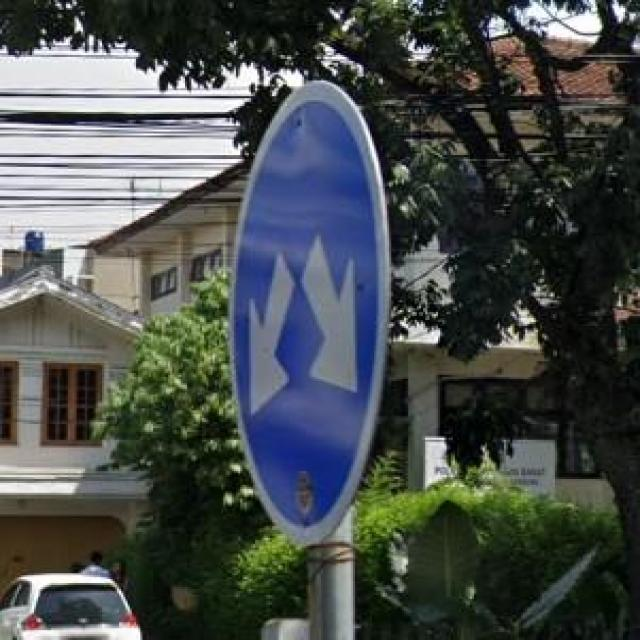left_righ_lane: (230, 77, 392, 544)
